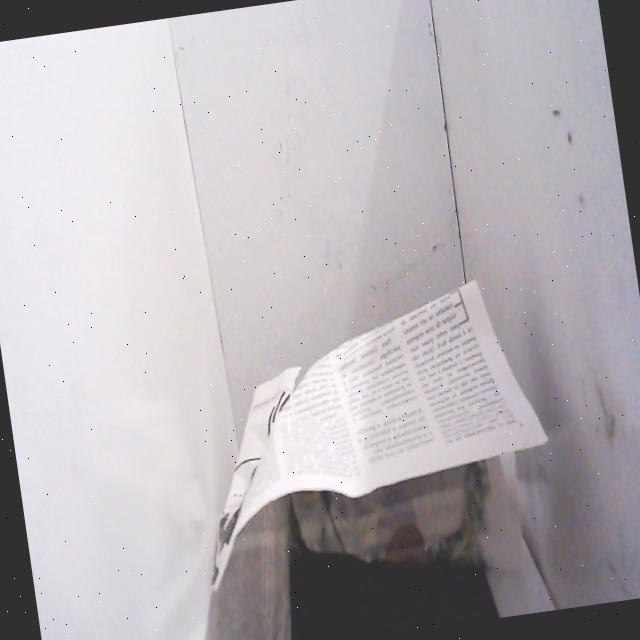papel: (170, 263, 581, 640)
